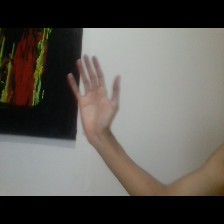left: (63, 52, 131, 144)
